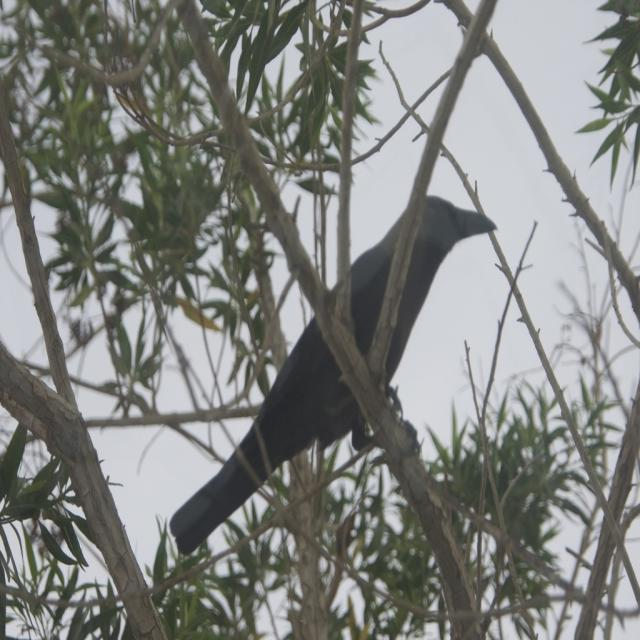crow: (164, 188, 502, 574)
